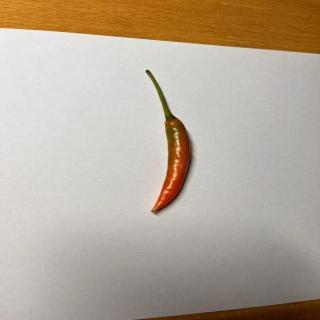Cabai Merah: (146, 70, 192, 214)
